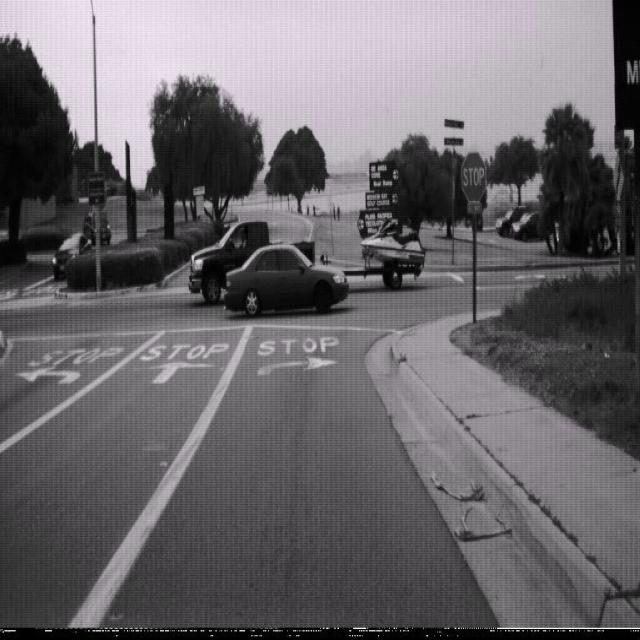stop_sign: (460, 150, 486, 204)
